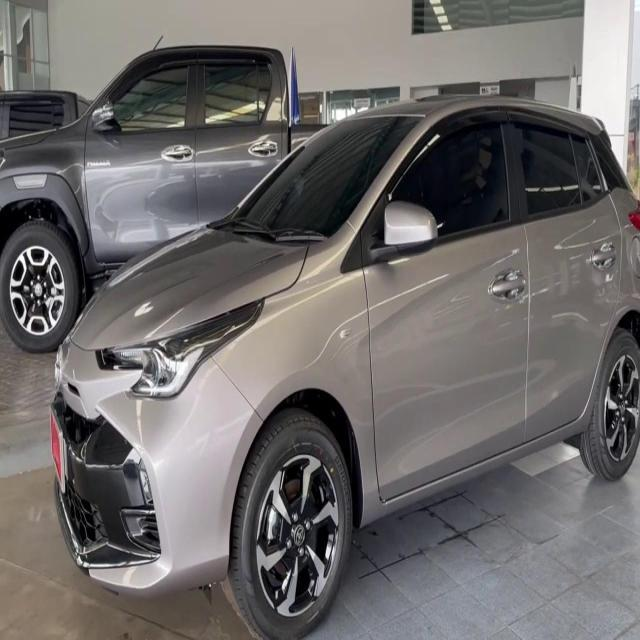Hatchback: (50, 96, 640, 639)
